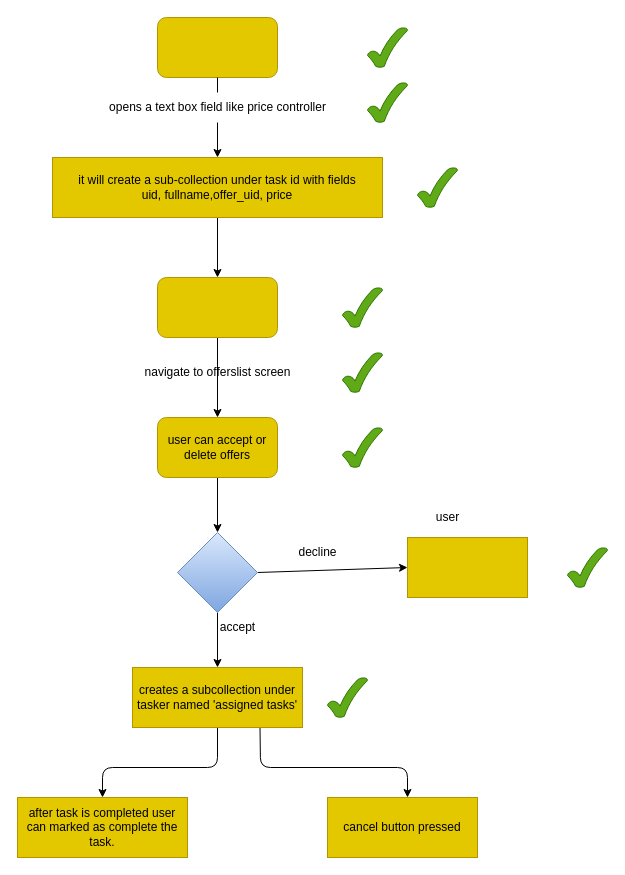
This 625x875 diagram has some shape labels left out. The centre of each missing label's shape, as x and y in pixels:
"deletes offer from offers collection" goes at (467,567).
"Tasker [Make Offer]" goes at (217,47).
"User [View Offers]" goes at (217,307).
